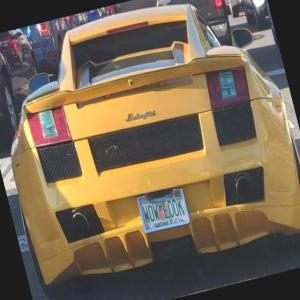Plate: (136, 187, 191, 233)
